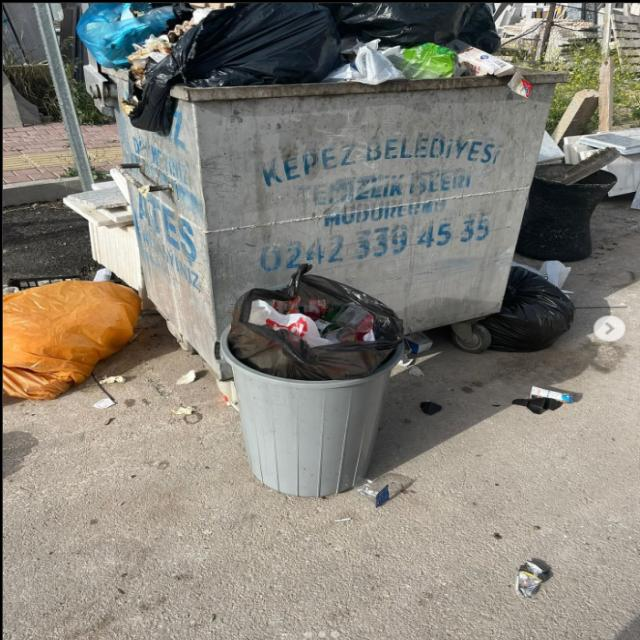garbage: (82, 6, 550, 127), (227, 266, 411, 380), (5, 266, 148, 412), (456, 260, 586, 363), (541, 142, 640, 252), (64, 170, 156, 267), (511, 382, 580, 417), (511, 554, 550, 600), (356, 482, 405, 510)
